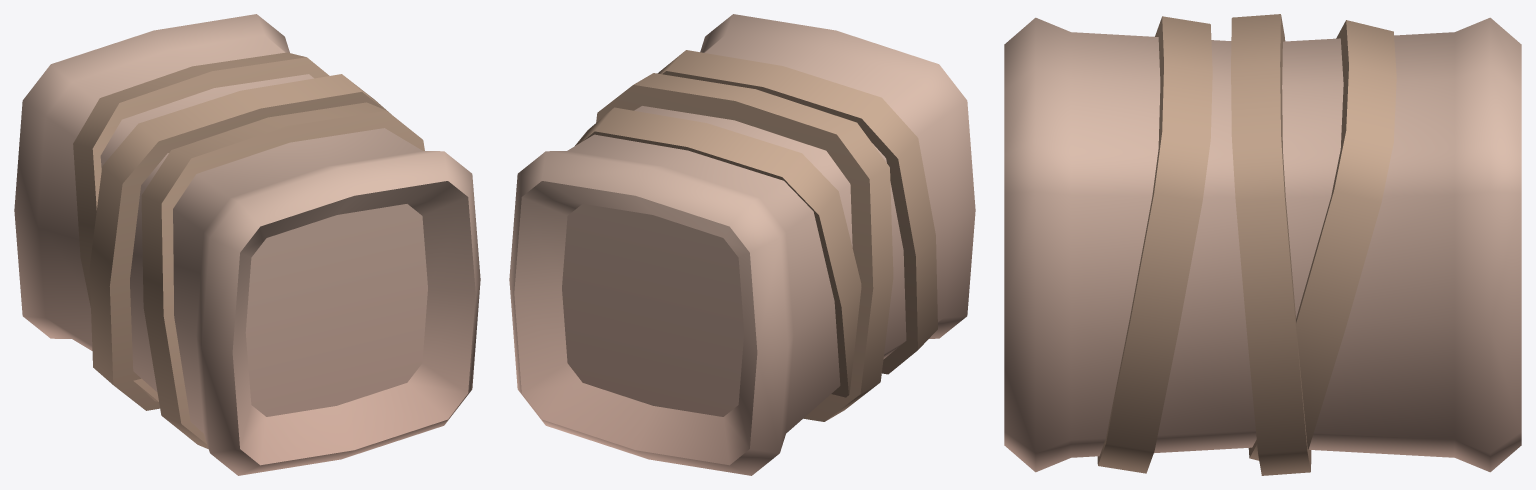
File: hay-bale-ropes.glb
The picture shows the model from 3 angles, left to right: view 1: azimuth 30°, elevation 25°; view 2: azimuth 150°, elevation 25°; view 3: azimuth 270°, elevation 25°; orthographic projection. The views are drawn at different scales.
Visible parts, largest first — view 1: hay-bale-ropes; view 2: hay-bale-ropes; view 3: hay-bale-ropes.
Boxes of the visible parts, <box> form: hay-bale-ropes: <box>14,14,480,475</box>; hay-bale-ropes: <box>509,14,975,475</box>; hay-bale-ropes: <box>1004,14,1521,475</box>.
Bounding box in the file's own units: 0.4835 × 0.4772 × 0.6188.
